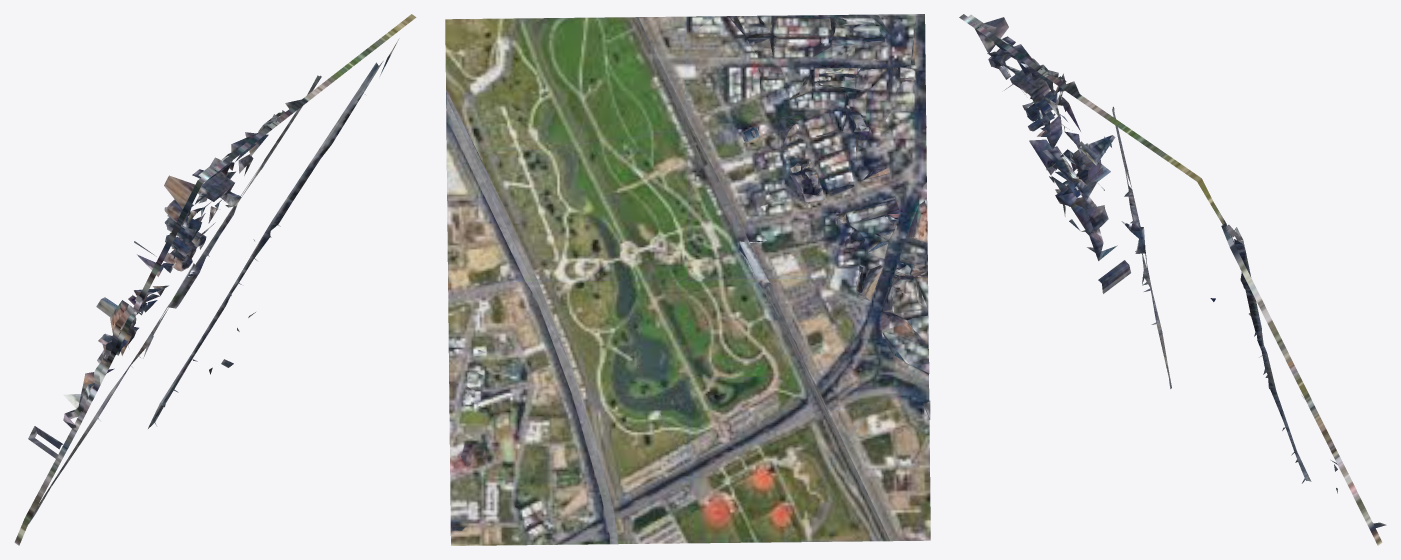
3 views of the same model, side by side, from view 1: azimuth 30°, elevation 25°; view 2: azimuth 150°, elevation 25°; view 3: azimuth 270°, elevation 25° (orthographic). The views are drawn at different scales.
Bounding box in the file's own units: 1222 × 1120 × 1041.
Materials: 1 (1 with a texture image).
